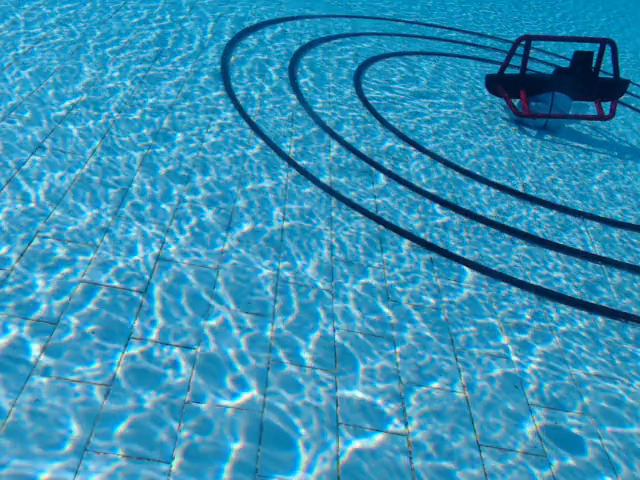submarine: (483, 33, 631, 123)
